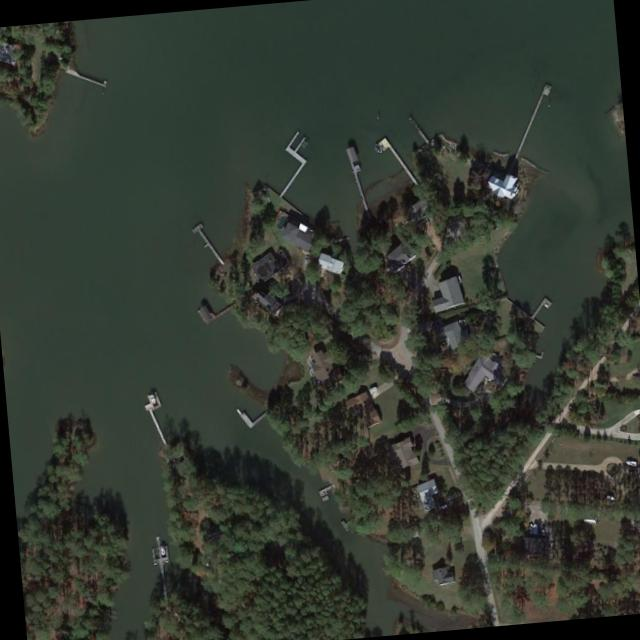ship: (605, 492, 617, 503), (624, 459, 638, 467)
